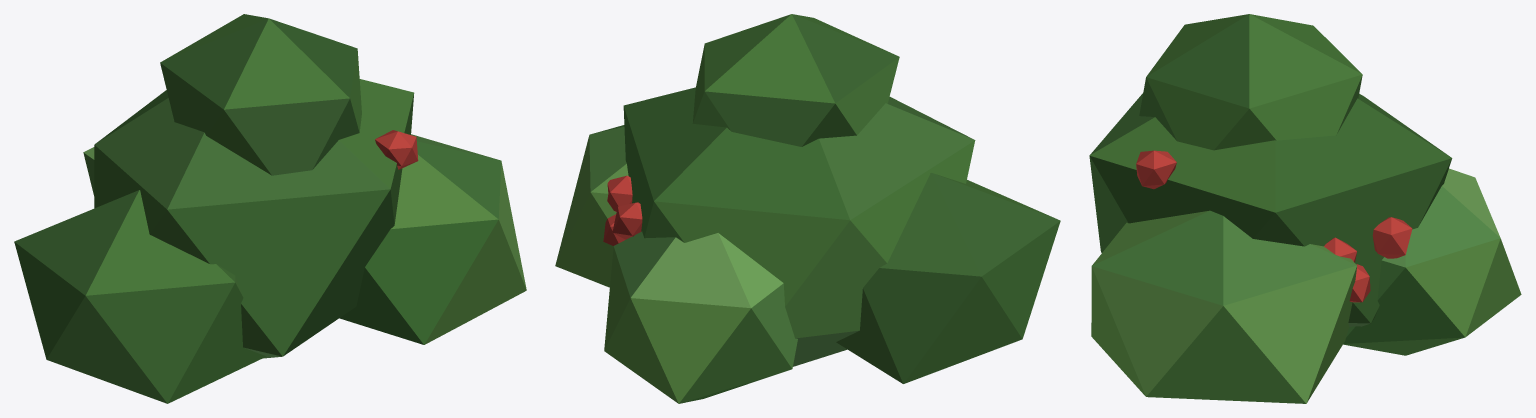
Rendered from Bush.glb.
3 views of the same model, side by side, from view 1: azimuth 30°, elevation 25°; view 2: azimuth 150°, elevation 25°; view 3: azimuth 270°, elevation 25° (orthographic). The views are drawn at different scales.
Visible parts, largest first — view 1: Body; view 2: Body; view 3: Body.
Part boxes in pixels (x1,y1,x2,y2): Body: (14, 14, 526, 403); Body: (555, 14, 1060, 403); Body: (1089, 14, 1521, 403).
Bounding box in the file's own units: 3.96 × 2.94 × 3.32.
